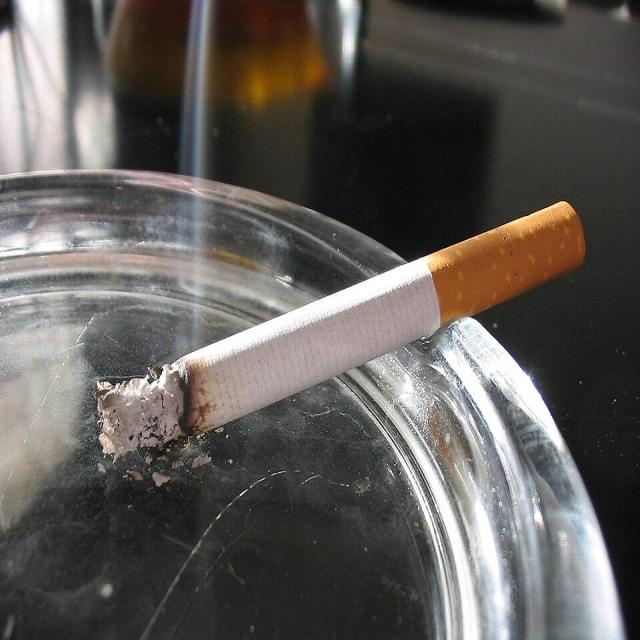cigarette: (95, 202, 588, 459)
